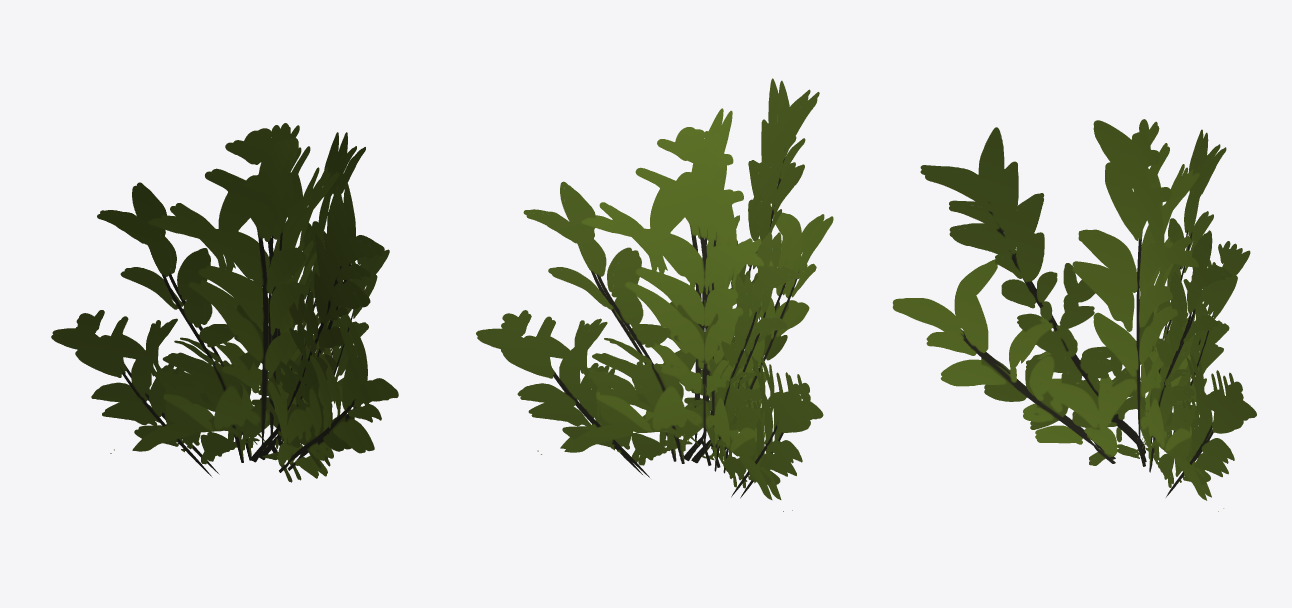
Rendered from bush1.fbx.
3 renders of one model, left to right at view 1: azimuth 30°, elevation 25°; view 2: azimuth 150°, elevation 25°; view 3: azimuth 270°, elevation 25°, orthographic.
Visible parts, largest first — view 1: plants2.001; view 2: plants2.001; view 3: plants2.001.
Boxes of the visible parts, <box> form: plants2.001: <box>51,123,398,482</box>; plants2.001: <box>476,78,833,511</box>; plants2.001: <box>892,119,1256,511</box>.
Bounding box in the file's own units: 149 × 137 × 131.
